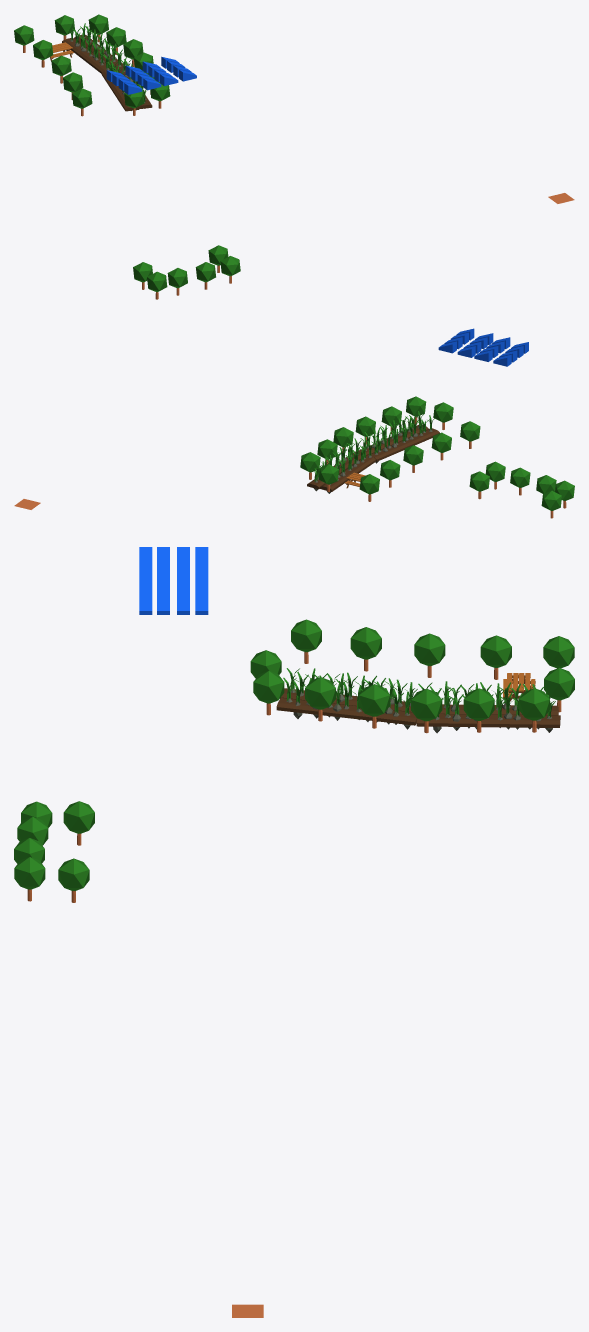
The model's file is solution_17_green_roof.fbx.
3 views of the same model, one above another, from view 1: azimuth 30°, elevation 25°; view 2: azimuth 150°, elevation 25°; view 3: azimuth 270°, elevation 25° (orthographic). The views are drawn at different scales.
Parts seen in each view (by area): view 1: solution_17_green_roof; view 2: solution_17_green_roof; view 3: solution_17_green_roof.
Part boxes in pixels (left/top/right/bottom): solution_17_green_roof: left=14, top=14, right=574, bottom=299; solution_17_green_roof: left=14, top=328, right=574, bottom=518; solution_17_green_roof: left=14, top=547, right=574, bottom=1317.
Bounding box in the file's own units: 5669 × 2789 × 3537.
